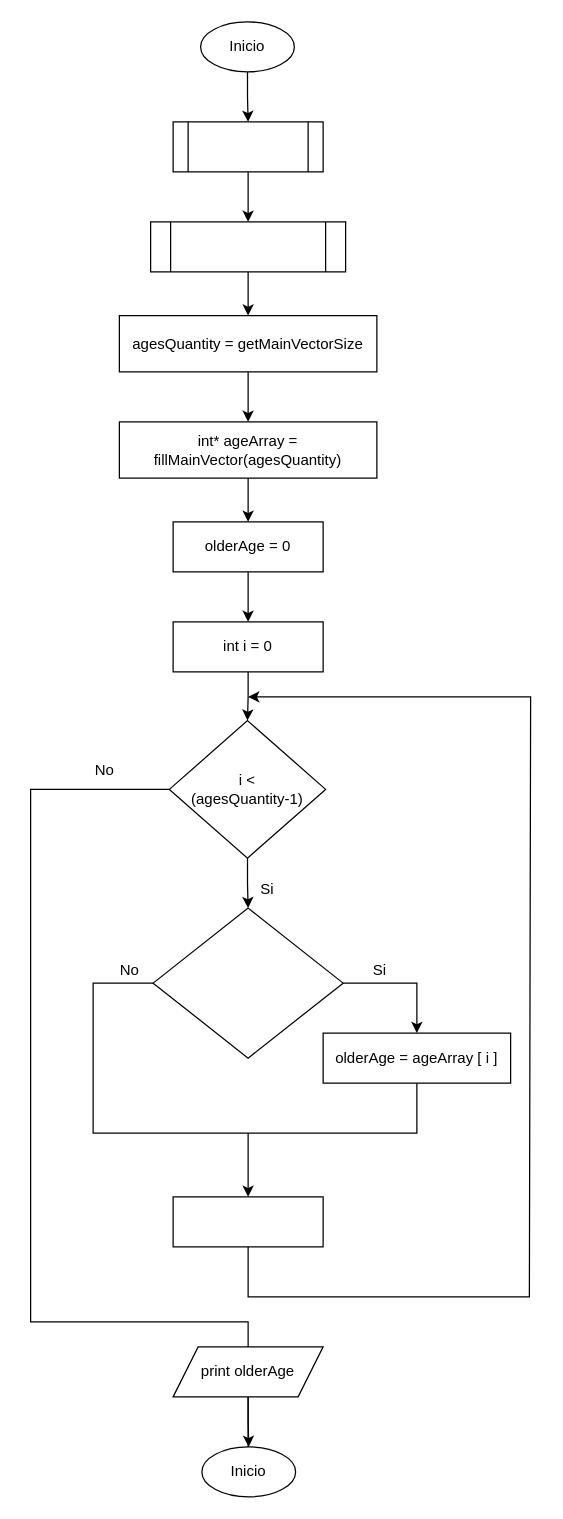
This 563x1519 diagram has some shape labels left out. The centre of each missing label's shape, as x and y in pixels:
"ageArray [ i ] > olderAge" belongs at [247,982].
"fillMainVector()" belongs at [247,146].
"getMainVectorSize()" belongs at [247,246].
"i ++" belongs at [247,1221].
